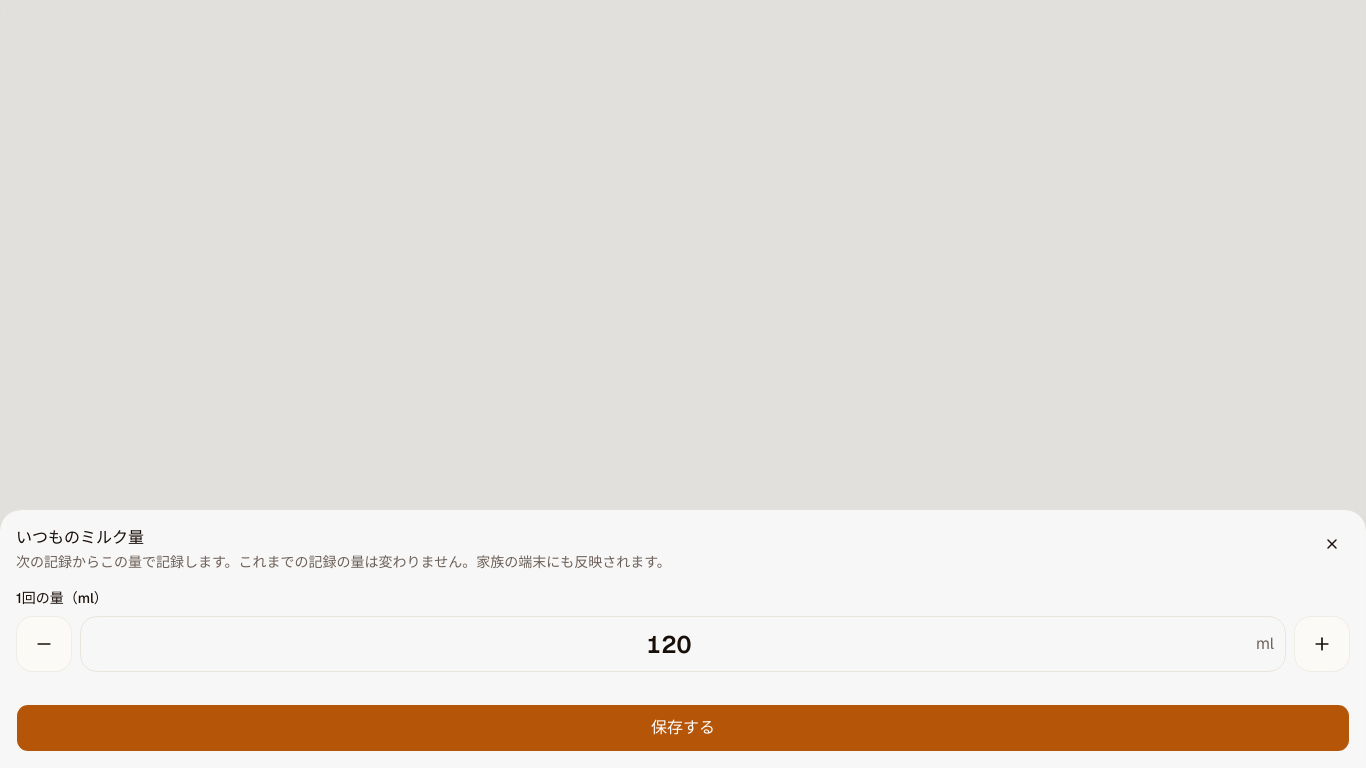
Test: BottleDefaultSheet の衝突と失敗 › サーバが拒んだら理由をシートに出し、閉じず、保存したことにもせぬ
Replace the text in the field labelled "1回の量（ml）" with "160": (683, 644) [80,616,1286,672]
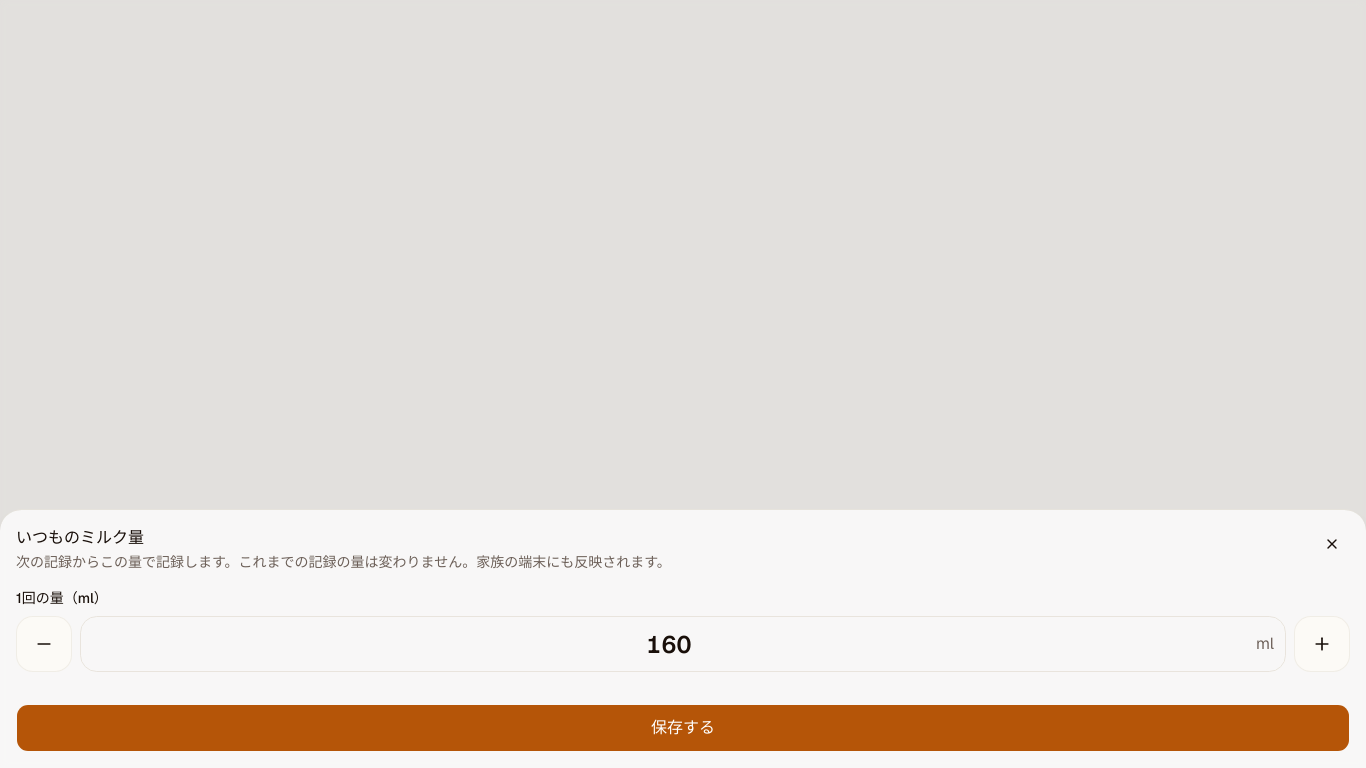
Click the button "保存する": (683, 728) [16,704,1350,752]
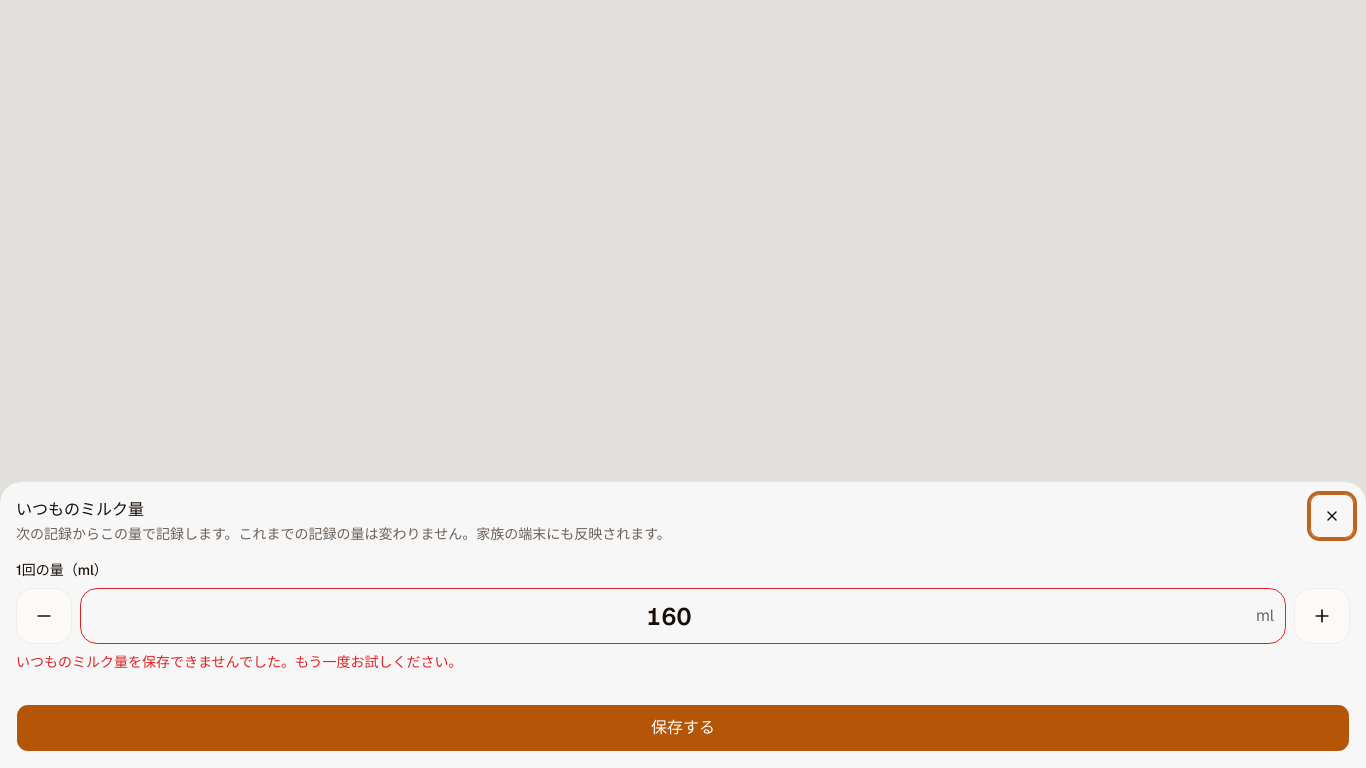
Check: the message shows "保存できませんでした", box [16,653,462,671]
